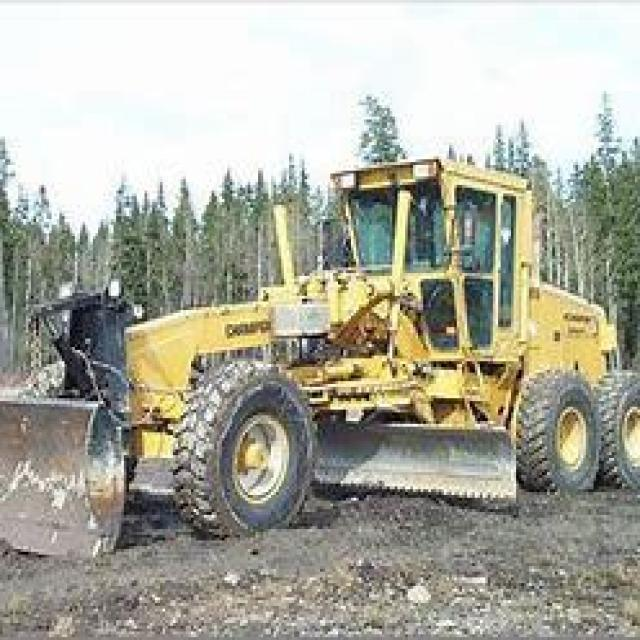Grader: (18, 122, 637, 564)
